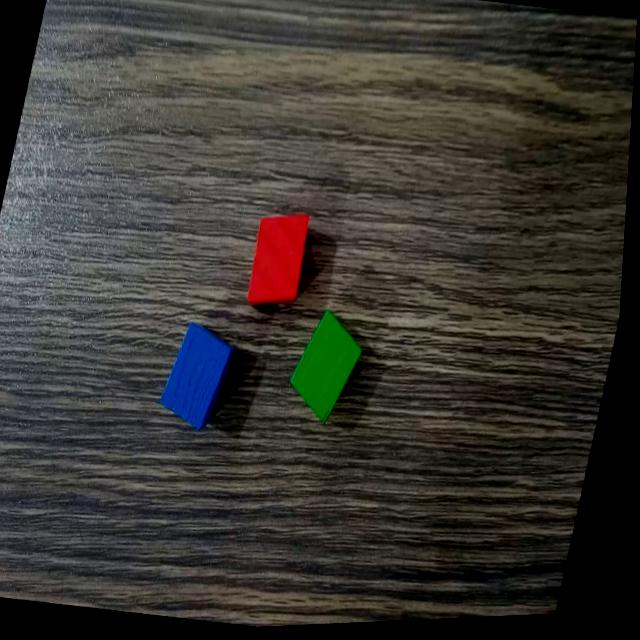cube: (282, 299, 379, 439), (157, 316, 242, 439), (242, 204, 322, 318)
